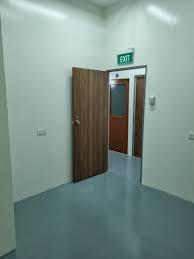exit: (105, 65, 145, 185)
lit_exit_sign: (116, 49, 134, 67)
